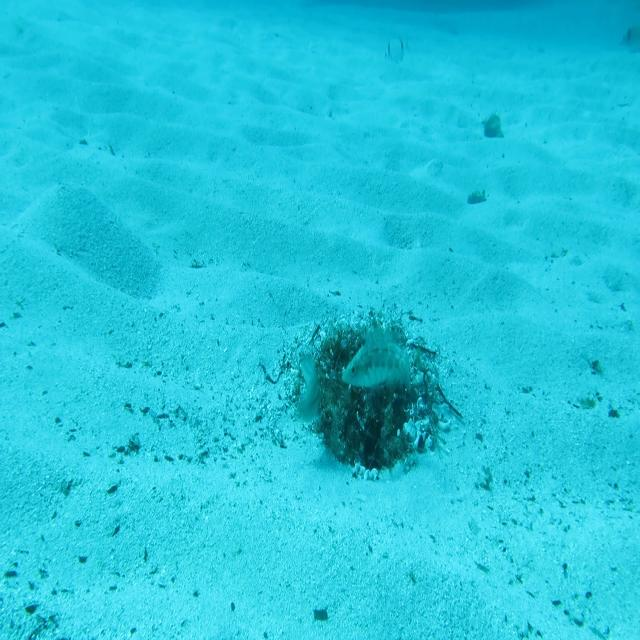CHASE_FLEE: (339, 323, 415, 396)
core_nest: (344, 345, 392, 370)
female: (295, 351, 322, 426)
nest: (280, 300, 456, 486)
other_fish: (380, 32, 408, 67), (619, 25, 640, 57)
vegetation: (482, 107, 506, 141), (468, 186, 490, 206), (312, 606, 329, 622)
